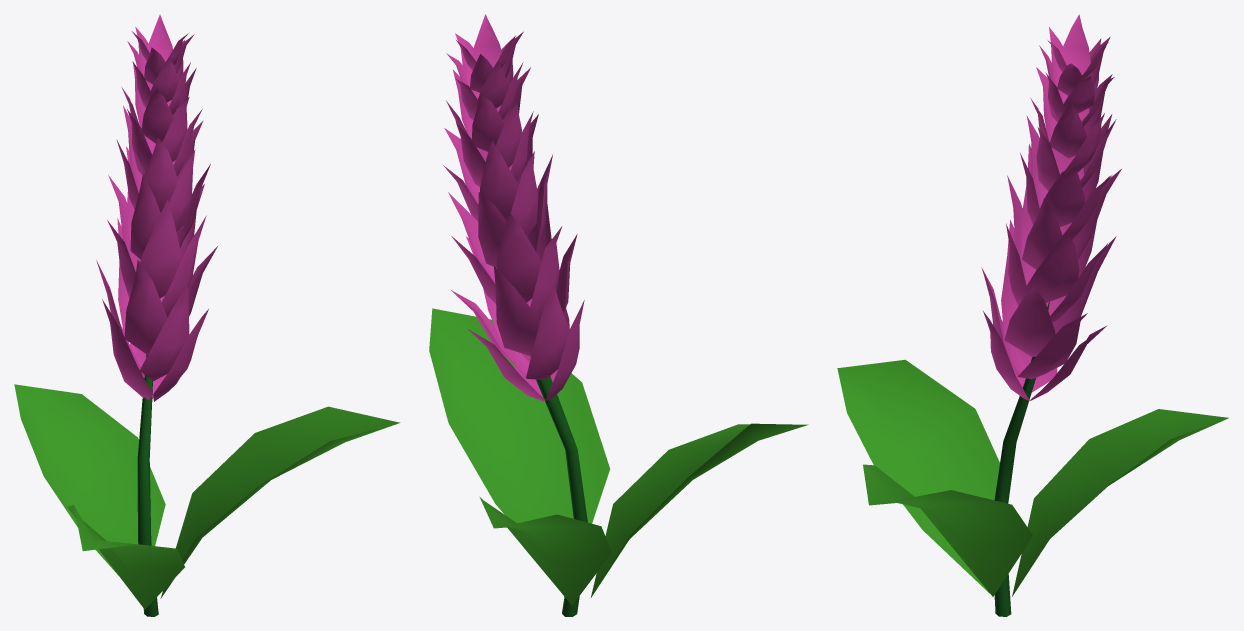
Rendered from fleur 8.fbx.
3 views of the same model, side by side, from view 1: azimuth 30°, elevation 25°; view 2: azimuth 150°, elevation 25°; view 3: azimuth 270°, elevation 25° (orthographic). The views are drawn at different scales.
Visible parts, largest first — view 1: Flower.031; view 2: Flower.031; view 3: Flower.031.
Boxes of the visible parts, x1=… form: Flower.031: x1=14, y1=14, x2=400, y2=616; Flower.031: x1=429, y1=14, x2=808, y2=616; Flower.031: x1=837, y1=14, x2=1228, y2=616.
Size of the model in its own units: 0.2681 by 0.4281 by 0.2505.
